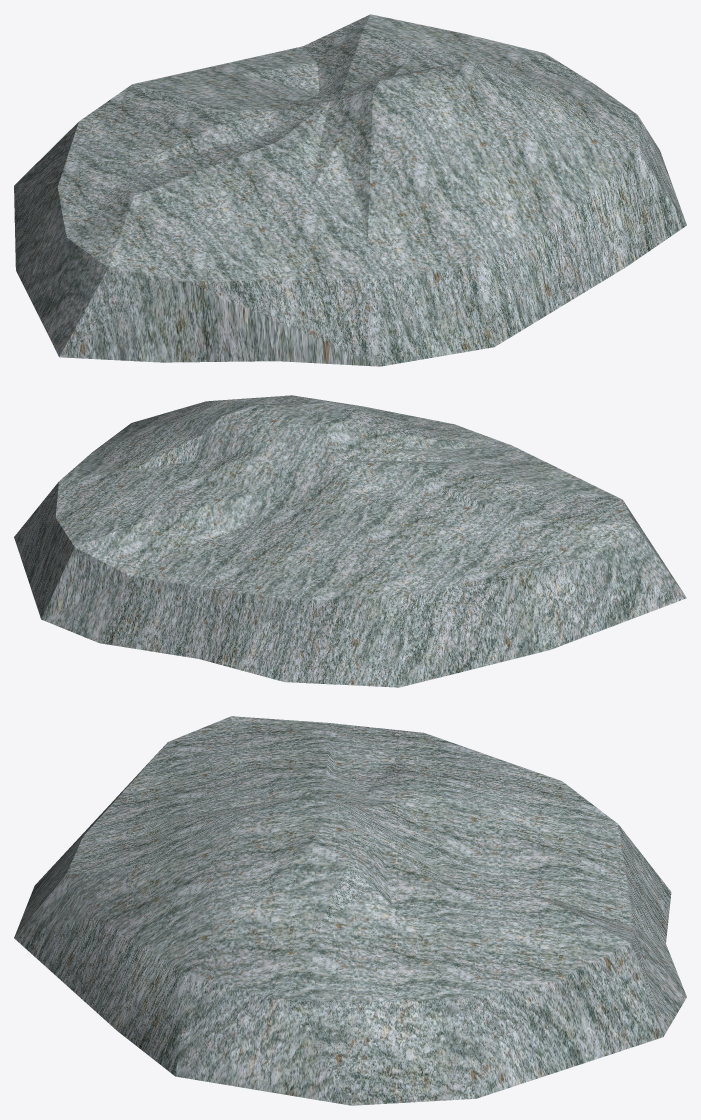
The model's file is rock_graniteslab_large_l1.fbx.
The picture shows the model from 3 angles, top to bottom: view 1: azimuth 30°, elevation 25°; view 2: azimuth 150°, elevation 25°; view 3: azimuth 270°, elevation 25°; orthographic projection. The views are drawn at different scales.
Visible parts, largest first — view 1: mesh_node; view 2: mesh_node; view 3: mesh_node.
Part boxes in pixels (box(x1,y1,x2,y2)): mesh_node: box(14, 14, 686, 366); mesh_node: box(14, 395, 686, 687); mesh_node: box(14, 716, 686, 1105).
Size of the model in its own units: 5.99 by 1.27 by 5.
